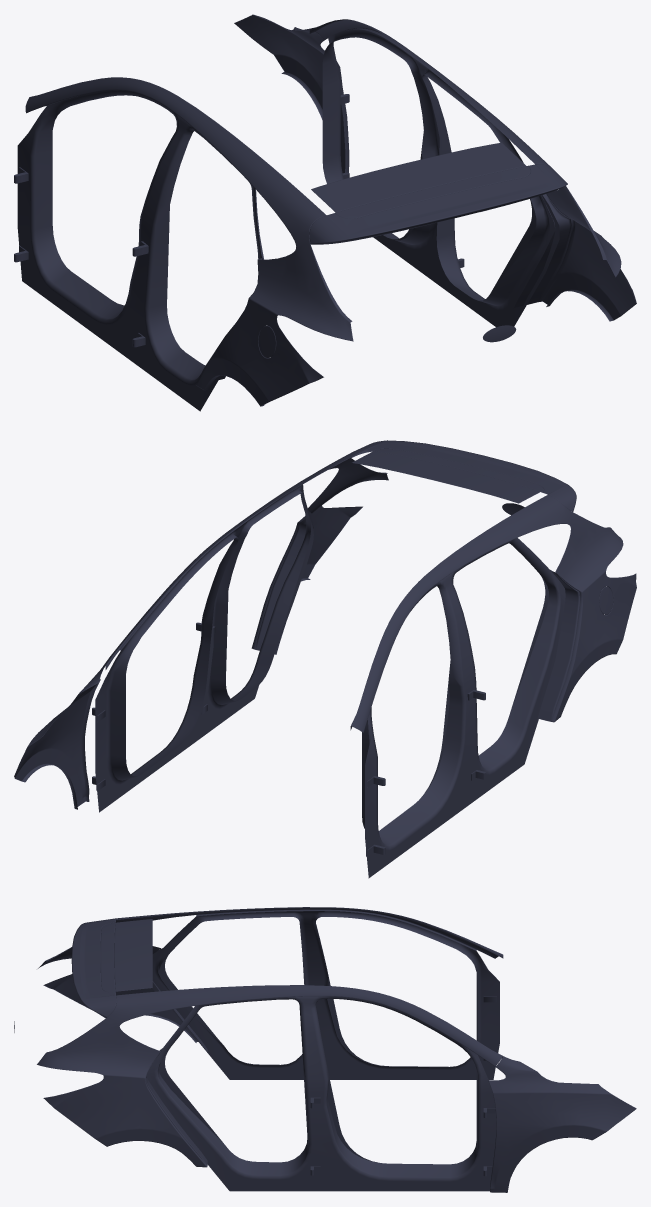
The model's file is MUV body.fbx.
3 views of the same model, one above another, from view 1: azimuth 30°, elevation 25°; view 2: azimuth 150°, elevation 25°; view 3: azimuth 270°, elevation 25° (orthographic). The views are drawn at different scales.
Parts seen in each view (by area): view 1: cc1; view 2: cc1; view 3: cc1.
Part boxes in pixels (x1,y1,x2,y2): cc1: (14,14,636,411); cc1: (14,440,636,878); cc1: (14,907,636,1192).
Bounding box in the file's own units: 239 × 165 × 493.
